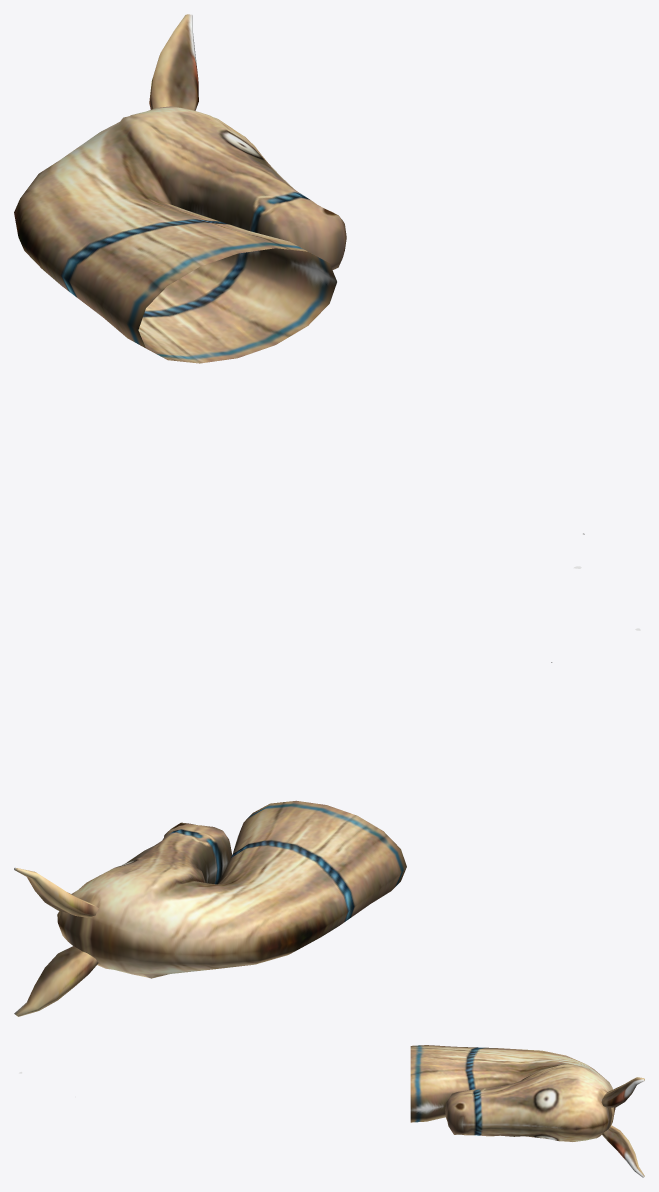
File: horse.fbx
3 views of the same model, one above another, from view 1: azimuth 30°, elevation 25°; view 2: azimuth 150°, elevation 25°; view 3: azimuth 270°, elevation 25° (orthographic). The views are drawn at different scales.
Visible parts, largest first — view 1: Cylinder.015; view 2: Cylinder.015; view 3: Cylinder.015.
Boxes of the visible parts, x1=… form: Cylinder.015: x1=14, y1=14, x2=584, y2=568; Cylinder.015: x1=14, y1=628, x2=640, y2=1016; Cylinder.015: x1=19, y1=1045, x2=644, y2=1177.
Bounding box in the file's own units: 292 × 187 × 1082.
